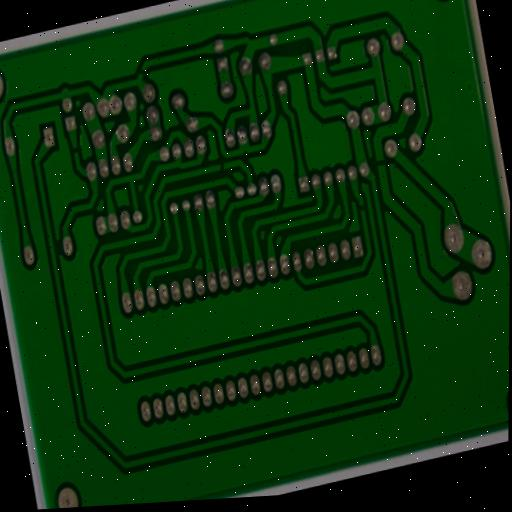open_circuit: (373, 154, 389, 171), (136, 63, 150, 80), (215, 156, 228, 172), (68, 142, 81, 158), (357, 199, 368, 216)
